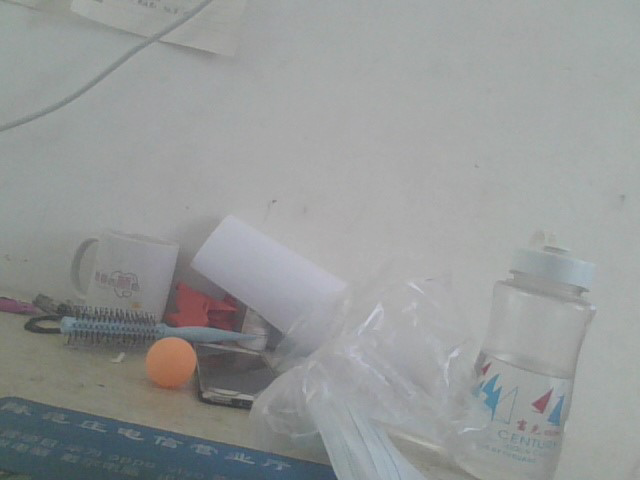ball: (146, 337, 196, 387)
